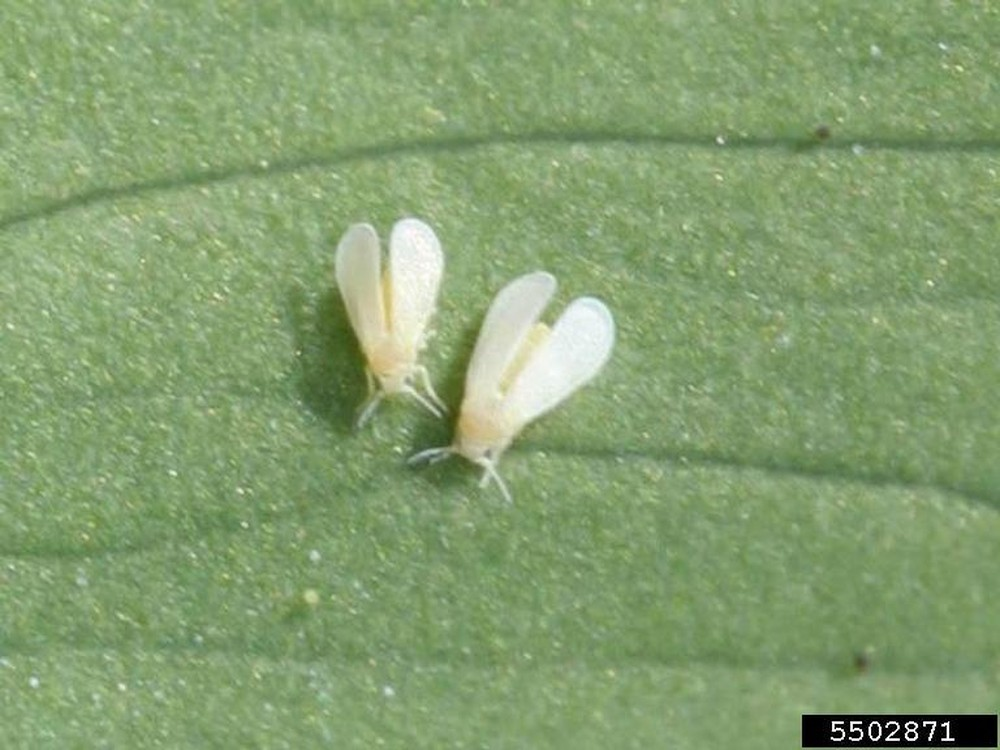Mosca Blanca: (432, 266, 649, 515), (282, 200, 469, 449)
